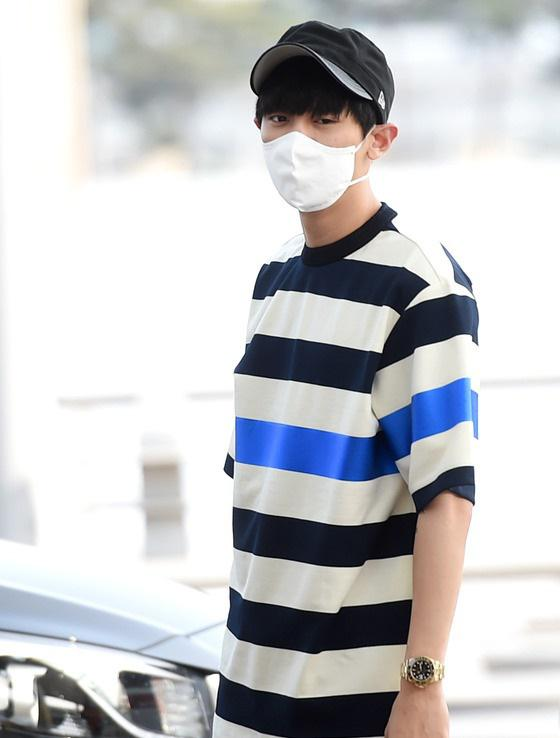OK: (261, 98, 370, 207)
